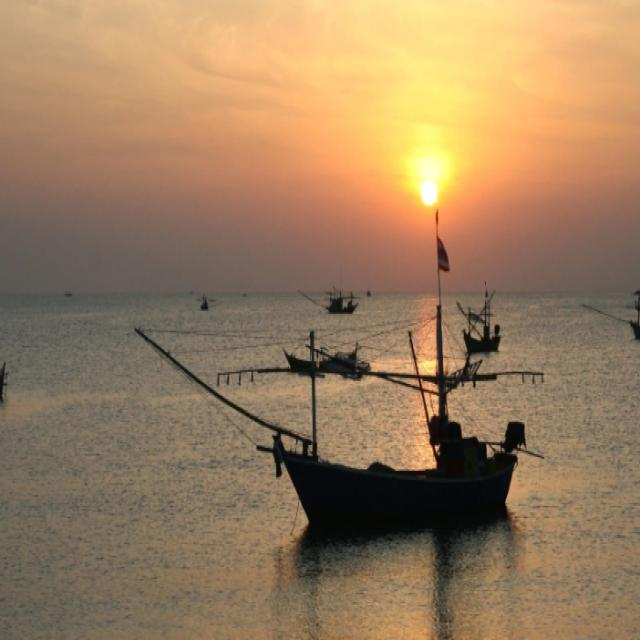fishing boat: (253, 302, 520, 532), (282, 328, 368, 382), (460, 278, 501, 346), (614, 280, 640, 343), (323, 284, 357, 319), (197, 293, 211, 313)
